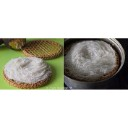idiyappam: (70, 41, 116, 78), (7, 57, 53, 81)
